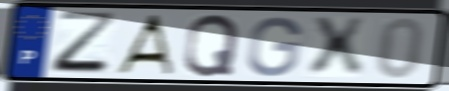0: (374, 16, 429, 81)
A: (112, 13, 176, 77)
G: (244, 14, 304, 78)
Q: (182, 12, 242, 78)
X: (307, 16, 368, 80)
Z: (49, 10, 121, 77)
